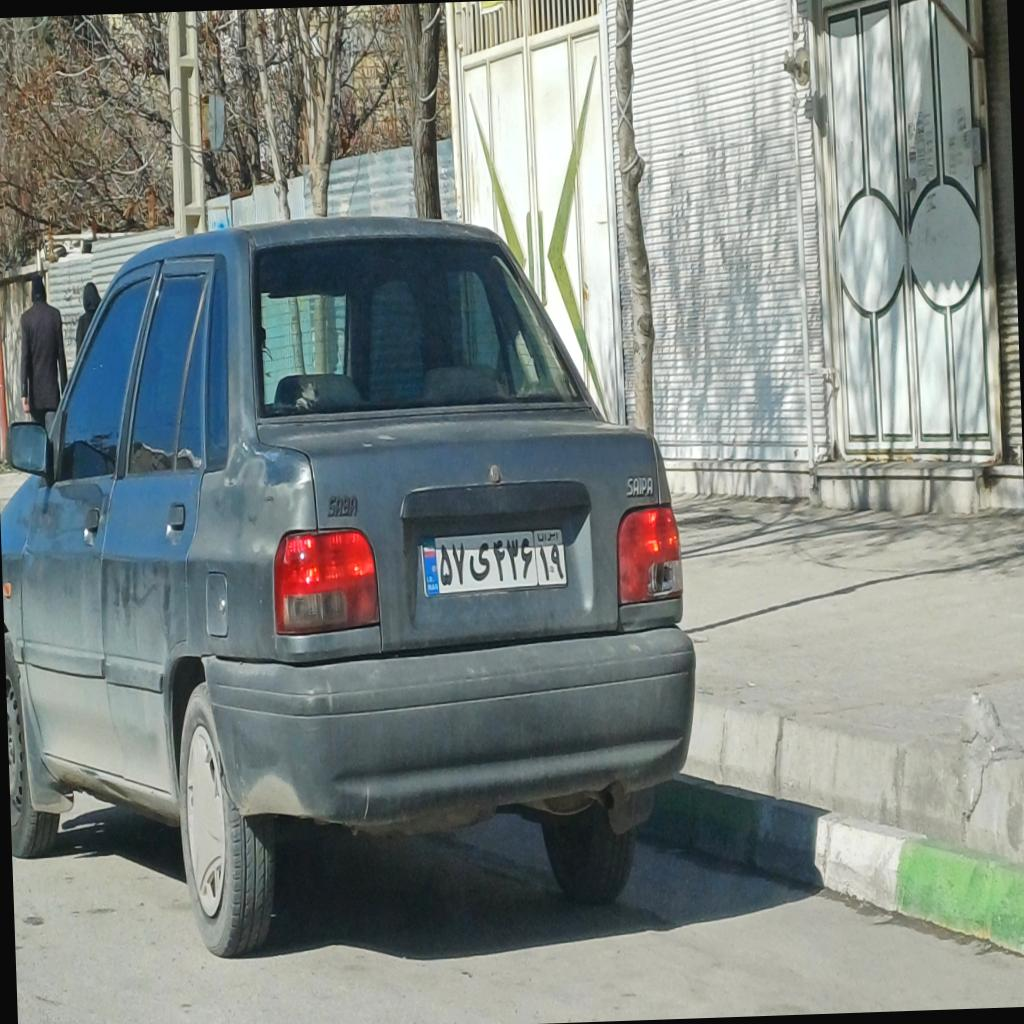Plates: (416, 528, 570, 595)
